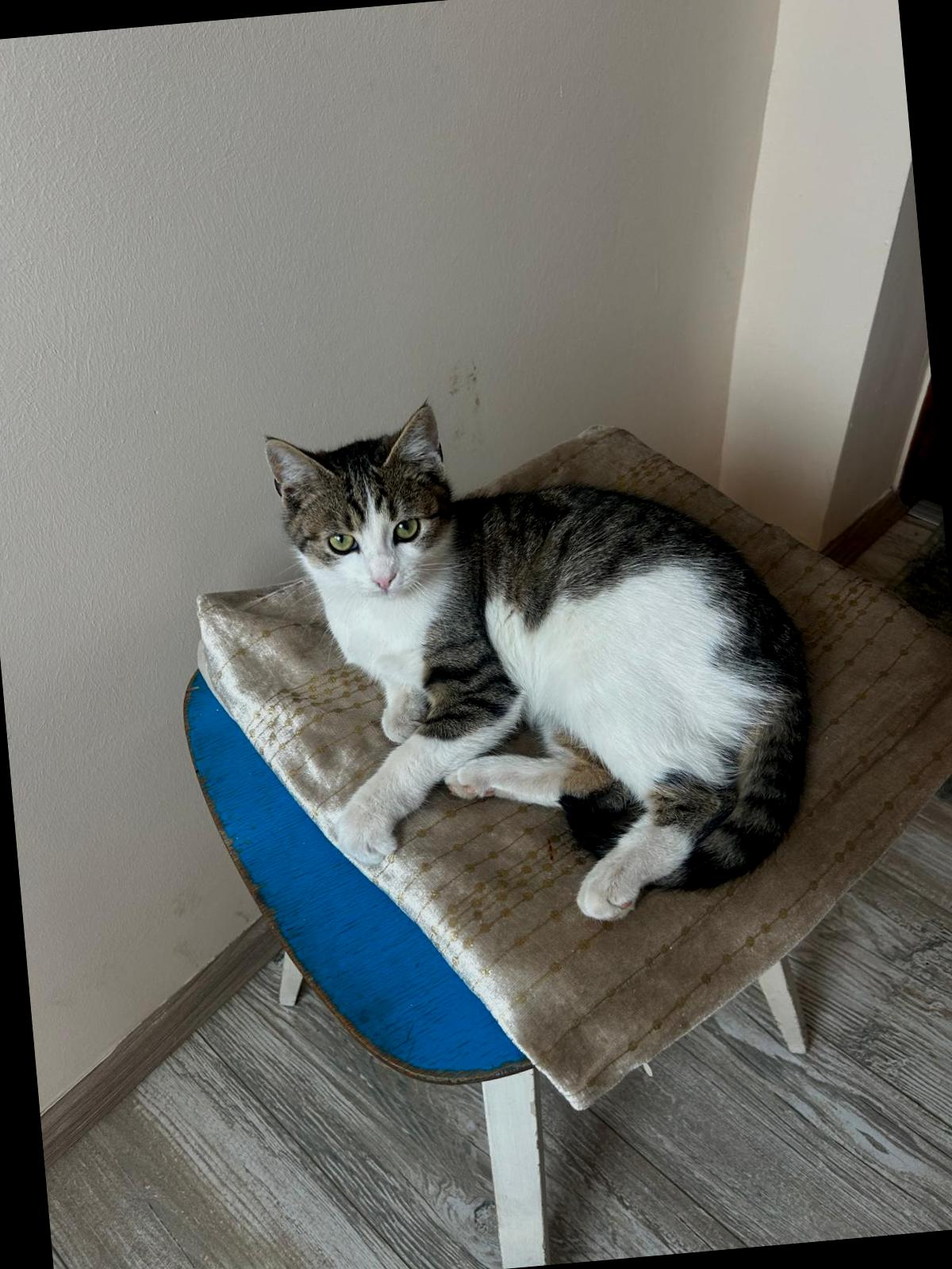macka: (261, 368, 829, 947)
